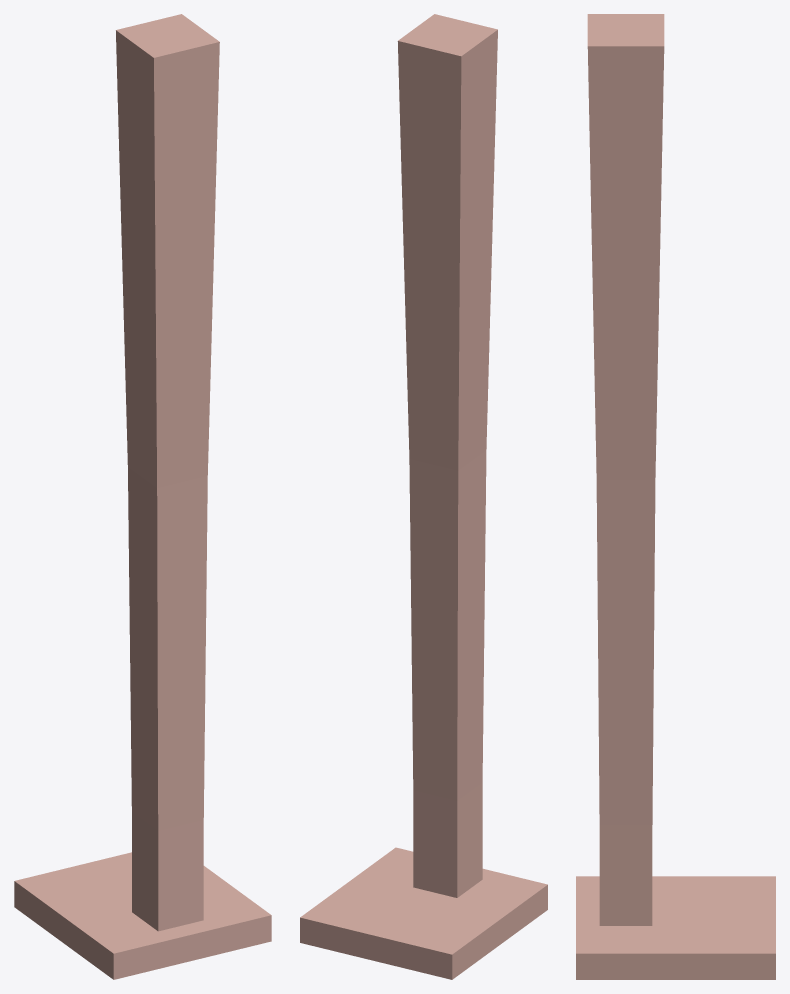
File: animal_ostrich_leg.obj
3 renders of one model, left to right at view 1: azimuth 30°, elevation 25°; view 2: azimuth 150°, elevation 25°; view 3: azimuth 270°, elevation 25°, orthographic. The views are drawn at different scales.
Parts seen in each view (by area): view 1: animal_ostrich_leg; view 2: animal_ostrich_leg; view 3: animal_ostrich_leg.
Part boxes in pixels (bbox=[...]): animal_ostrich_leg: bbox=[14, 14, 271, 979]; animal_ostrich_leg: bbox=[300, 14, 547, 979]; animal_ostrich_leg: bbox=[576, 14, 775, 979].
Bounding box in the file's own units: 0.1302 × 0.7144 × 0.142.
